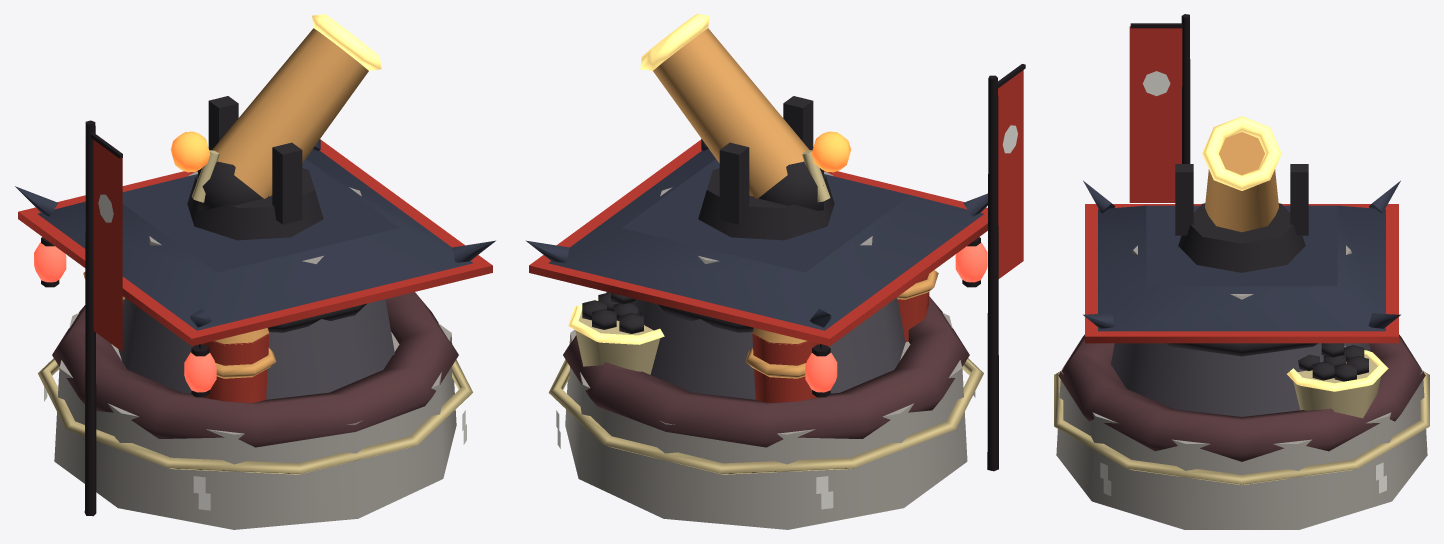
Rendered from tower_mine_minefield.glb.
The picture shows the model from 3 angles, left to right: view 1: azimuth 30°, elevation 25°; view 2: azimuth 150°, elevation 25°; view 3: azimuth 270°, elevation 25°; orthographic projection. The views are drawn at different scales.
Parts seen in each view (by area): view 1: deco_eave_0_roof, base, earthwall, bunker, mortar_tube, deco_eave_0_rim, deco_shimenawa_rope, deco_nobori_cloth, turret_yoke, deco_nobori_pole, barrel_0, turret_trunnion_l (+10 smaller); view 2: deco_eave_0_roof, base, earthwall, bunker, mortar_tube, deco_eave_0_rim, deco_shimenawa_rope, deco_nobori_cloth, deco_nobori_pole, turret_yoke, barrel_1, mine_basket (+12 smaller); view 3: deco_eave_0_roof, base, earthwall, bunker, deco_nobori_cloth, deco_eave_0_rim, turret_yoke, deco_shimenawa_rope, mortar_tube, mortar_mouth, mine_basket, deco_eave_0 (+6 smaller).
Boxes of the visible parts, x1,y1,x2,y2 form: deco_eave_0_roof: [38, 149, 472, 330]; base: [54, 313, 456, 529]; earthwall: [52, 292, 458, 447]; bunker: [118, 298, 394, 399]; mortar_tube: [212, 28, 368, 198]; deco_eave_0_rim: [18, 139, 492, 346]; deco_shimenawa_rope: [38, 358, 472, 474]; deco_nobori_cloth: [93, 140, 122, 351]; turret_yoke: [187, 168, 323, 240]; deco_nobori_pole: [84, 120, 96, 516]; barrel_0: [201, 328, 269, 402]; turret_trunnion_l: [272, 142, 302, 224]; deco_eave_0_roof: [548, 149, 983, 330]; base: [565, 312, 967, 529]; earthwall: [563, 292, 969, 447]; bunker: [635, 298, 905, 399]; mortar_tube: [653, 28, 809, 198]; deco_eave_0_rim: [529, 139, 987, 346]; deco_shimenawa_rope: [548, 358, 983, 474]; deco_nobori_cloth: [998, 70, 1023, 278]; deco_nobori_pole: [987, 75, 998, 471]; turret_yoke: [698, 168, 834, 240]; barrel_1: [752, 328, 819, 402]; mine_basket: [575, 309, 660, 374]; deco_eave_0_roof: [1098, 205, 1385, 331]; base: [1056, 368, 1427, 529]; earthwall: [1058, 334, 1425, 461]; bunker: [1111, 343, 1370, 416]; deco_nobori_cloth: [1129, 26, 1182, 202]; deco_eave_0_rim: [1085, 204, 1398, 343]; turret_yoke: [1178, 203, 1305, 272]; deco_shimenawa_rope: [1054, 371, 1429, 485]; mortar_tube: [1205, 132, 1278, 232]; mortar_mouth: [1202, 116, 1281, 190]; mine_basket: [1293, 354, 1381, 418]; deco_eave_0: [1083, 180, 1400, 328].
Size of the model in its own units: 0.4387 by 0.4369 by 0.4052.
